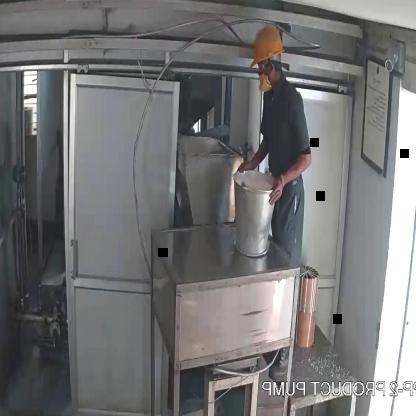helmet: (246, 16, 285, 76)
